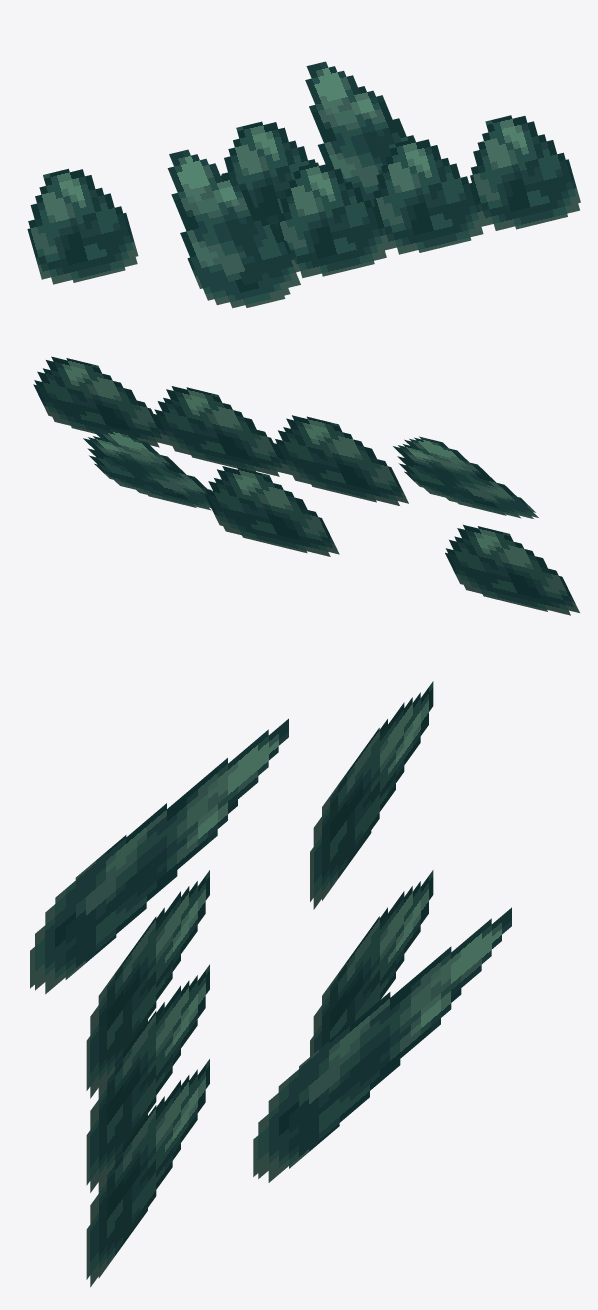
3 renders of one model, top to bottom at view 1: azimuth 30°, elevation 25°; view 2: azimuth 150°, elevation 25°; view 3: azimuth 270°, elevation 25°, orthographic. The views are drawn at different scales.
Size of the model in its own units: 5 by 1.33 by 2.41.
Materials: 2 (2 with a texture image).
